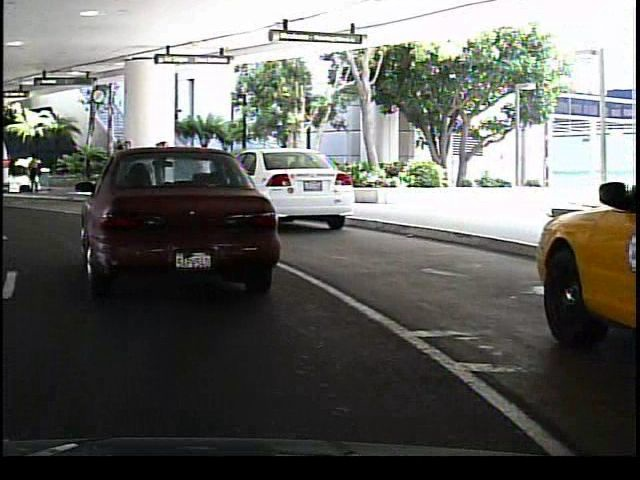person: (113, 136, 136, 199), (190, 142, 215, 193), (150, 138, 171, 194), (24, 153, 48, 197)
